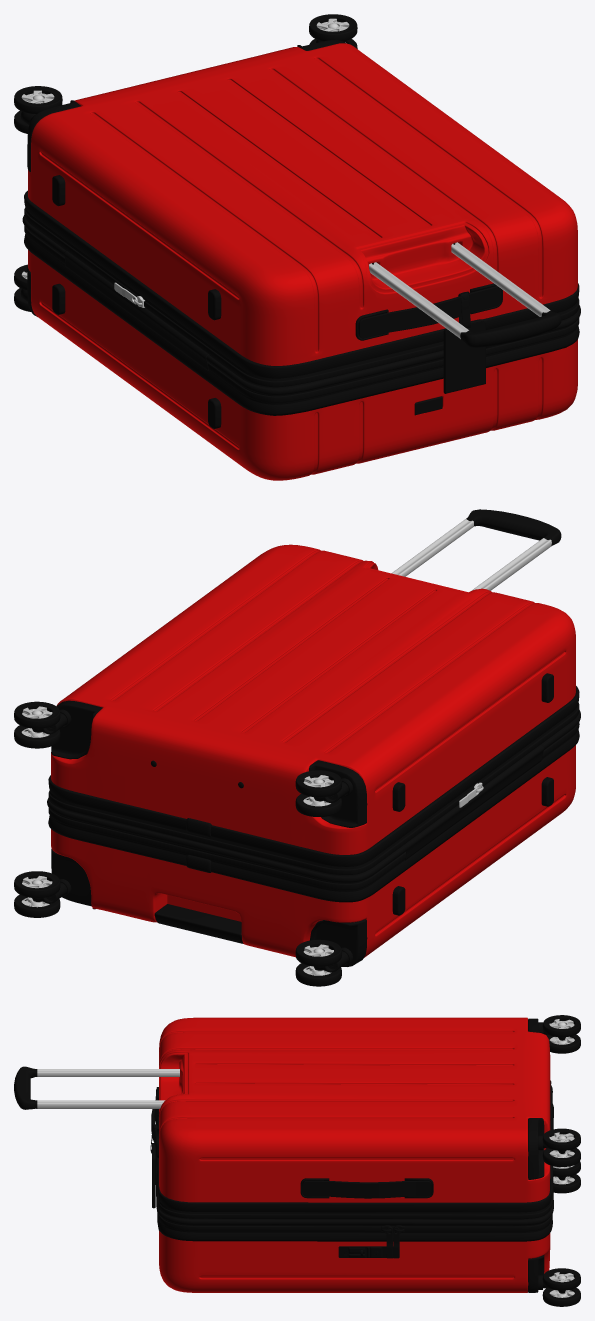
The model's file is suitcase.obj.
3 views of the same model, one above another, from view 1: azimuth 30°, elevation 25°; view 2: azimuth 150°, elevation 25°; view 3: azimuth 270°, elevation 25° (orthographic). The views are drawn at different scales.
Visible parts, largest first — view 1: meshesQ0S-0, meshesQ0S-1, meshesQ1S-1, meshesQ1S-0, meshesQ0S-2; view 2: meshesQ0S-0, meshesQ0S-1, meshesQ1S-1, meshesQ0S-2, meshesQ1S-0; view 3: meshesQ0S-0, meshesQ0S-1, meshesQ1S-1, meshesQ0S-2, meshesQ1S-0.
Boxes of the visible parts, bbox=[...] form: meshesQ0S-0: bbox=[28, 43, 577, 480]; meshesQ0S-1: bbox=[14, 14, 580, 428]; meshesQ1S-1: bbox=[369, 242, 550, 338]; meshesQ1S-0: bbox=[460, 310, 561, 347]; meshesQ0S-2: bbox=[21, 18, 349, 307]; meshesQ0S-0: bbox=[51, 544, 575, 957]; meshesQ0S-1: bbox=[14, 673, 580, 986]; meshesQ1S-1: bbox=[391, 519, 551, 590]; meshesQ0S-2: bbox=[21, 706, 483, 975]; meshesQ1S-0: bbox=[466, 509, 561, 546]; meshesQ0S-0: bbox=[159, 1017, 550, 1292]; meshesQ0S-1: bbox=[150, 1015, 580, 1306]; meshesQ1S-1: bbox=[37, 1069, 179, 1108]; meshesQ0S-2: bbox=[549, 1019, 574, 1297]; meshesQ1S-0: bbox=[14, 1066, 37, 1109].
Size of the model in its own units: 0.5695 by 0.3228 by 1.01.
